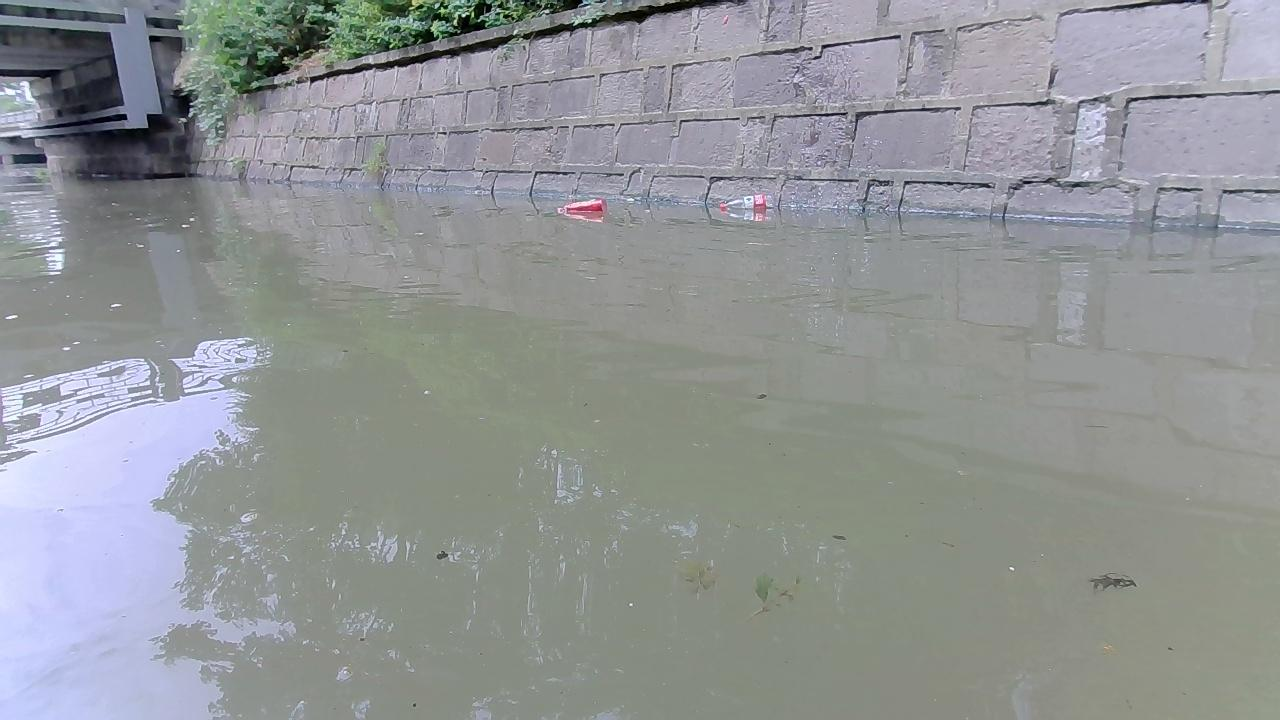bottle: (719, 190, 778, 215), (555, 196, 610, 214)
